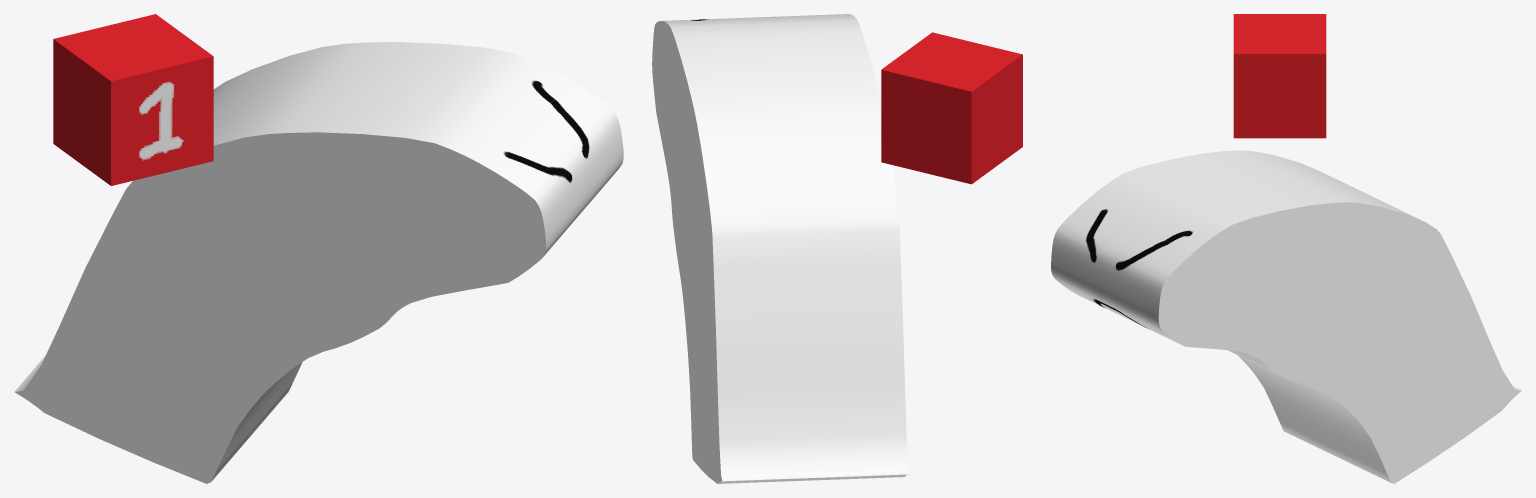
The model's file is pingsock.glb.
The picture shows the model from 3 angles, left to right: view 1: azimuth 30°, elevation 25°; view 2: azimuth 150°, elevation 25°; view 3: azimuth 270°, elevation 25°; orthographic projection. The views are drawn at different scales.
Visible parts, largest first — view 1: mesh_id29, mesh_id32; view 2: mesh_id29, mesh_id32; view 3: mesh_id29, mesh_id32.
Part boxes in pixels (box(x1,y1,x2,y2)): mesh_id29: box(14, 42, 623, 483); mesh_id32: box(53, 14, 213, 185); mesh_id29: box(652, 14, 909, 483); mesh_id32: box(881, 32, 1022, 184); mesh_id29: box(1051, 150, 1521, 483); mesh_id32: box(1233, 14, 1326, 138).
Size of the model in its own units: 0.2572 by 0.2416 by 0.2804.
2 materials, 2 textured.
